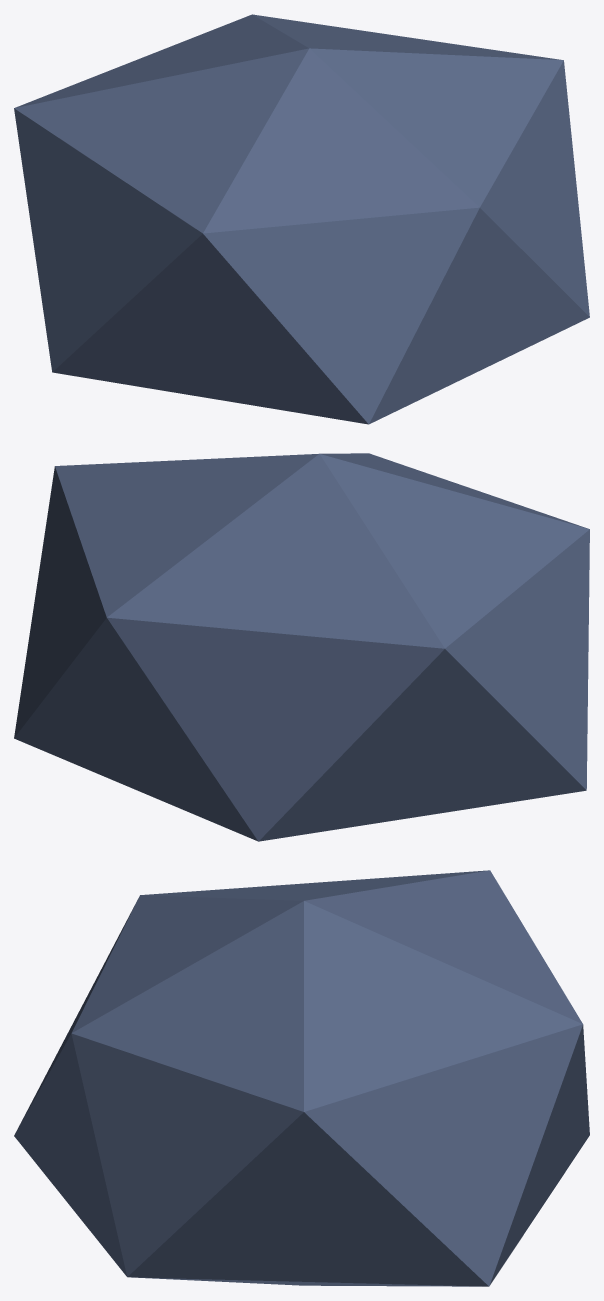
The model's file is rock.glb.
3 views of the same model, one above another, from view 1: azimuth 30°, elevation 25°; view 2: azimuth 150°, elevation 25°; view 3: azimuth 270°, elevation 25° (orthographic). The views are drawn at different scales.
Parts seen in each view (by area): view 1: rock; view 2: rock; view 3: rock.
Part boxes in pixels (x1=…): rock: x1=14, y1=14, x2=589, y2=424; rock: x1=14, y1=453, x2=589, y2=841; rock: x1=14, y1=870, x2=589, y2=1286.
Bounding box in the file's own units: 1.2 × 0.809 × 1.1.
